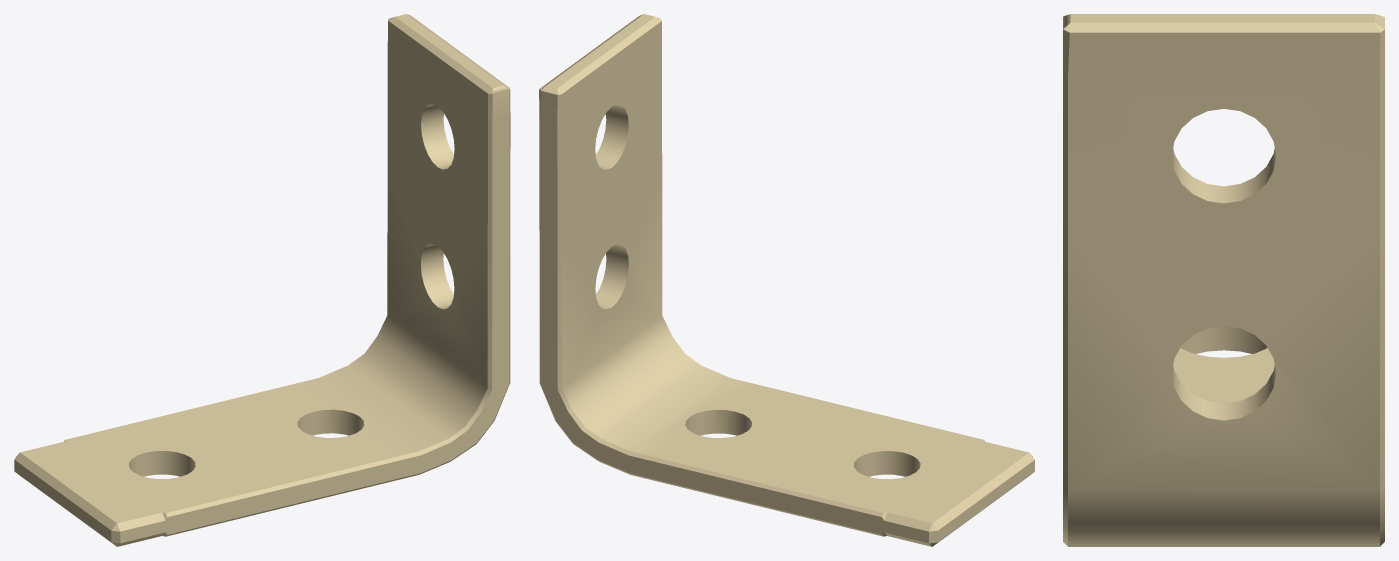
File: stopper01.fbx
3 renders of one model, left to right at view 1: azimuth 30°, elevation 25°; view 2: azimuth 150°, elevation 25°; view 3: azimuth 270°, elevation 25°, orthographic. The views are drawn at different scales.
Parts seen in each view (by area): view 1: pCube5; view 2: pCube5; view 3: pCube5.
Part boxes in pixels (x1,y1,x2,y2): pCube5: (14,14,510,546); pCube5: (539,14,1034,546); pCube5: (1063,14,1384,546).
Size of the model in its own units: 4.01 by 3.54 by 1.81.
